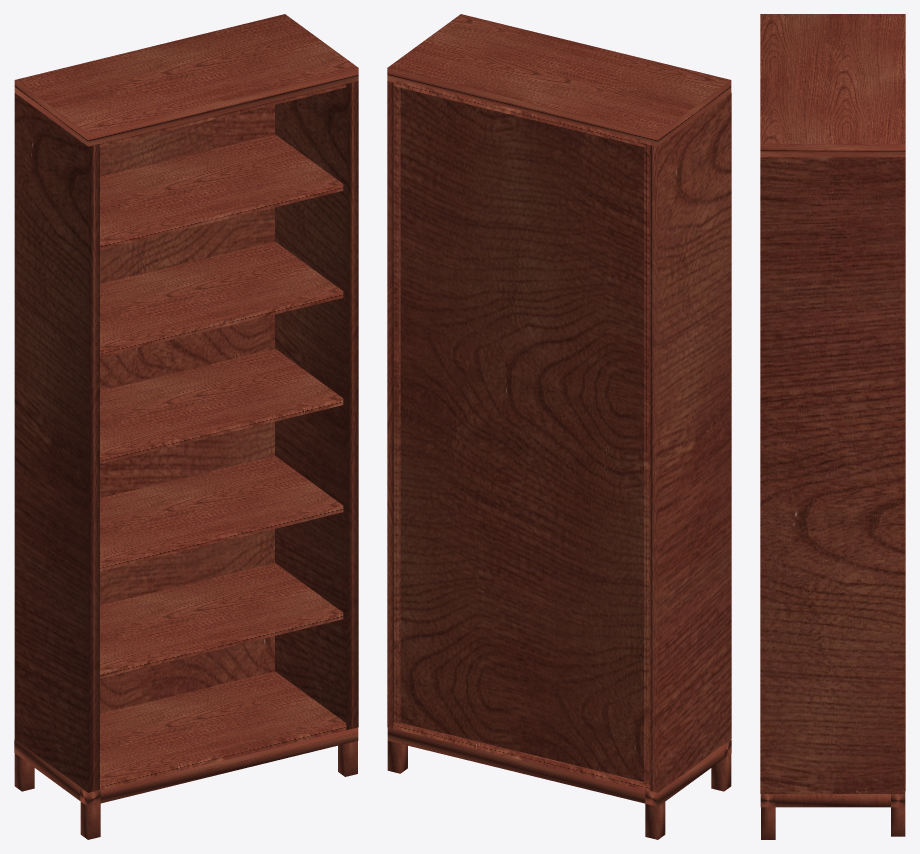
The model's file is bookcase.obj.
3 views of the same model, side by side, from view 1: azimuth 30°, elevation 25°; view 2: azimuth 150°, elevation 25°; view 3: azimuth 270°, elevation 25° (orthographic).
Visible parts, largest first — view 1: OBJ_0_0; view 2: OBJ_0_0; view 3: OBJ_0_0.
Part boxes in pixels (x1,y1,x2,y2): OBJ_0_0: (14,14,358,839); OBJ_0_0: (387,14,731,839); OBJ_0_0: (760,14,905,839).
Size of the model in its own units: 33.5 by 83.46 by 15.78.
